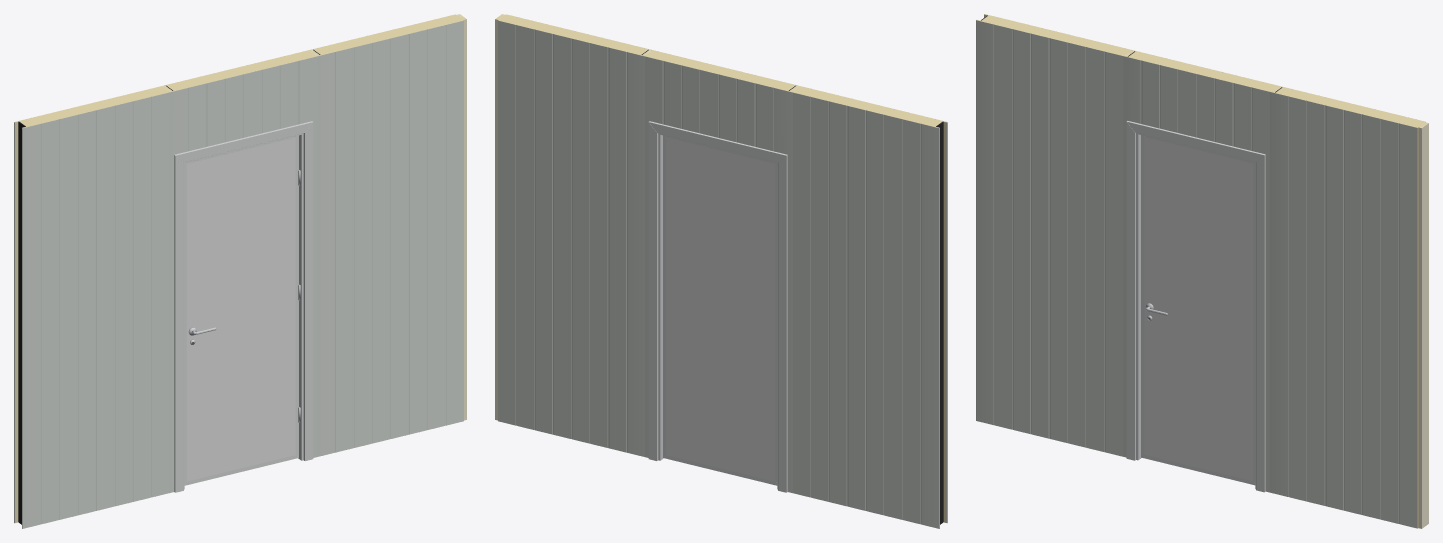
The model's file is office-25x7.glb.
The picture shows the model from 3 angles, left to right: view 1: azimuth 30°, elevation 25°; view 2: azimuth 150°, elevation 25°; view 3: azimuth 330°, elevation 25°; orthographic projection.
Parts seen in each view (by area): view 1: Wall_p0_Steel_top, Wall_p2_Steel_top, SkinF, Wall_p1_Steel_top, TrimF_R, TrimF_L, Wall_p0_PIR_core, Wall_p0_Gasket, LinerR, TrimF_T, Wall_p1_PIR_core, Wall_p2_PIR_core (+4 smaller); view 2: Wall_p0_Steel_bottom, Wall_p2_Steel_bottom, SkinB, Wall_p1_Steel_bottom, TrimB_R, TrimB_L, Wall_p0_PIR_core, LinerR, Wall_p0_Gasket, TrimB_T, Wall_p1_PIR_core, Wall_p2_PIR_core (+4 smaller); view 3: Wall_p0_Steel_top, Wall_p2_Steel_top, SkinF, Wall_p1_Steel_top, Wall_p2_Tongue_tape, TrimF_R, TrimF_L, Wall_p2_PIR_core, LinerL, TrimF_T, Wall_p0_PIR_core, Wall_p1_PIR_core (+2 smaller).
Boxes of the visible parts, x1,y1,x2,y2 form: Wall_p0_Steel_top: (22, 92, 169, 528); Wall_p2_Steel_top: (317, 20, 463, 456); SkinF: (186, 137, 295, 481); Wall_p1_Steel_top: (169, 56, 316, 492); TrimF_R: (303, 122, 313, 460); TrimF_L: (174, 155, 183, 492); Wall_p0_PIR_core: (14, 86, 171, 522); Wall_p0_Gasket: (18, 121, 25, 524); LinerR: (298, 133, 303, 460); TrimF_T: (174, 121, 312, 162); Wall_p1_PIR_core: (161, 50, 318, 92); Wall_p2_PIR_core: (309, 14, 466, 56); Wall_p0_Steel_bottom: (792, 92, 939, 528); Wall_p2_Steel_bottom: (498, 20, 644, 456); SkinB: (666, 137, 775, 481); Wall_p1_Steel_bottom: (645, 56, 792, 492); TrimB_R: (648, 122, 658, 460); TrimB_L: (778, 155, 787, 492); Wall_p0_PIR_core: (790, 86, 947, 522); LinerR: (658, 134, 663, 460); Wall_p0_Gasket: (936, 121, 943, 524); TrimB_T: (649, 121, 787, 162); Wall_p1_PIR_core: (643, 50, 800, 92); Wall_p2_PIR_core: (495, 14, 652, 56); Wall_p0_Steel_top: (976, 20, 1123, 456); Wall_p2_Steel_top: (1270, 92, 1417, 528); SkinF: (1144, 137, 1253, 480); Wall_p1_Steel_top: (1123, 56, 1270, 492); Wall_p2_Tongue_tape: (1418, 123, 1428, 528); TrimF_R: (1256, 155, 1265, 492); TrimF_L: (1126, 122, 1135, 460); Wall_p2_PIR_core: (1271, 86, 1428, 527); LinerL: (1136, 133, 1141, 460); TrimF_T: (1126, 121, 1265, 161); Wall_p0_PIR_core: (976, 14, 1133, 56); Wall_p1_PIR_core: (1124, 50, 1281, 92).
Bounding box in the file's own units: 3.02 × 2.6 × 0.133.
